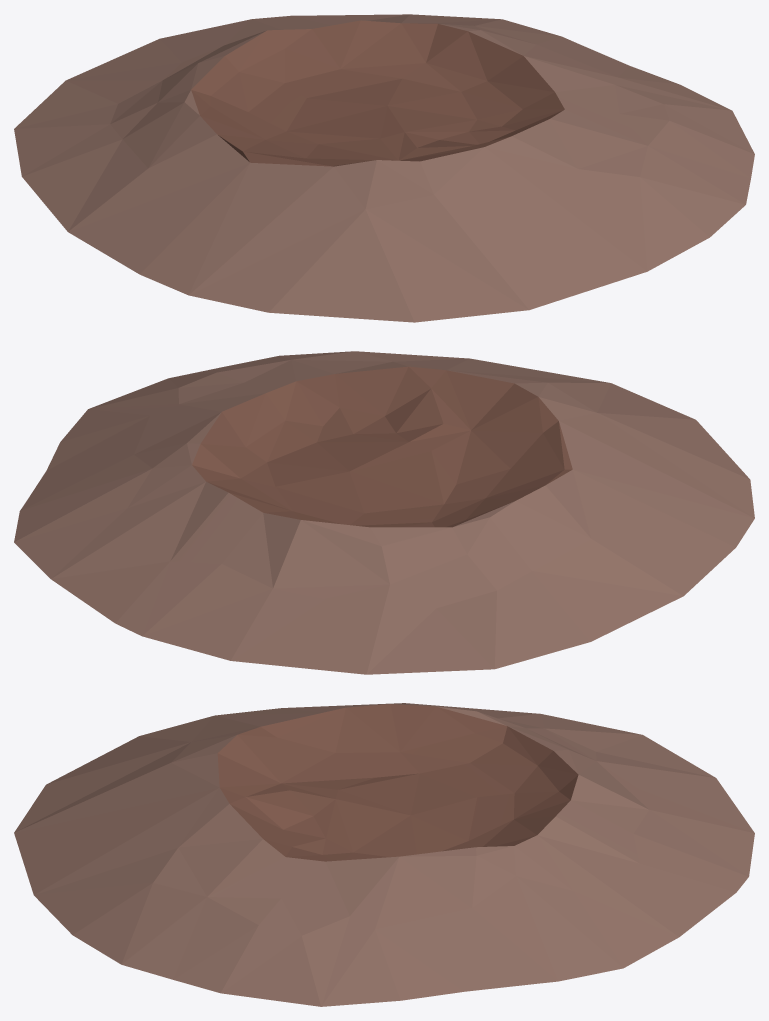
The model's file is crater_003.fbx.
3 renders of one model, top to bottom at view 1: azimuth 30°, elevation 25°; view 2: azimuth 150°, elevation 25°; view 3: azimuth 270°, elevation 25°, orthographic. The views are drawn at different scales.
Parts seen in each view (by area): view 1: crater_003; view 2: crater_003; view 3: crater_003.
Part boxes in pixels (<box>): crater_003: <box>14,14,754,322</box>; crater_003: <box>14,351,754,674</box>; crater_003: <box>14,703,754,1006</box>.
Size of the model in its own units: 3345 by 3447 by 402.
